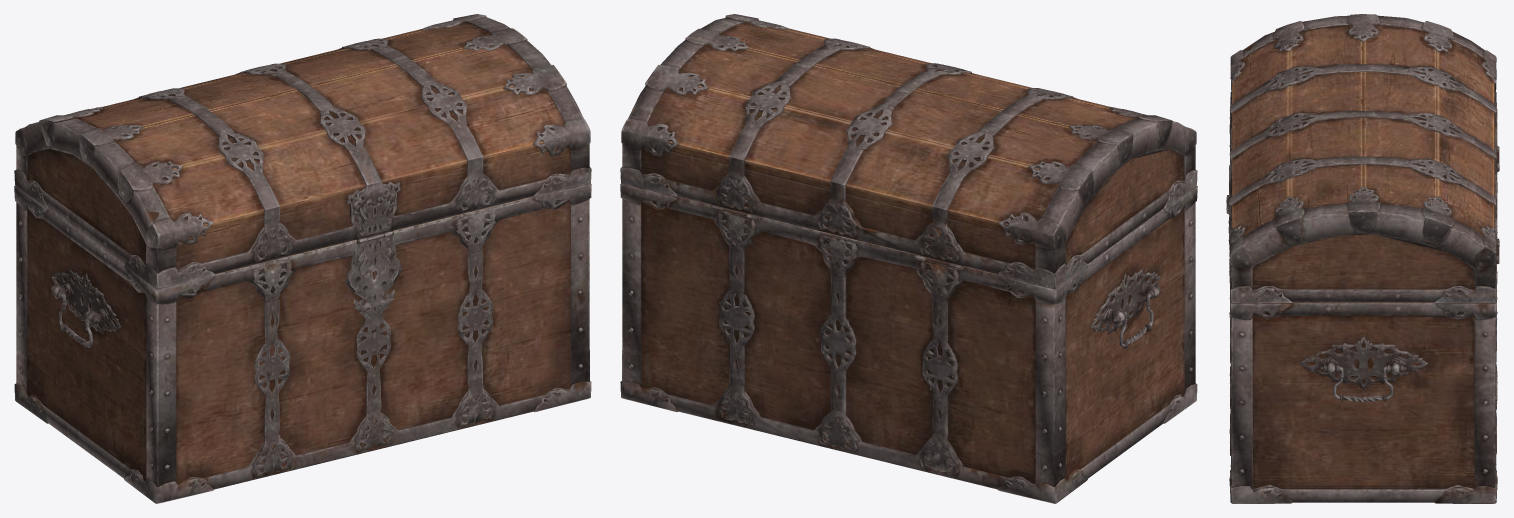
File: treasure-chest.glb
3 views of the same model, side by side, from view 1: azimuth 30°, elevation 25°; view 2: azimuth 150°, elevation 25°; view 3: azimuth 270°, elevation 25° (orthographic). The views are drawn at different scales.
Visible parts, largest first — view 1: treasure_chest_bottom, treasure_chest_lid, treasure_chest_lock, treasure_chest_handle_left; view 2: treasure_chest_bottom, treasure_chest_lid, treasure_chest_handle_left; view 3: treasure_chest_lid, treasure_chest_bottom, treasure_chest_handle_right.
Boxes of the visible parts, bbox=[...] form: treasure_chest_bottom: bbox=[14, 183, 591, 503]; treasure_chest_lid: bbox=[14, 14, 591, 288]; treasure_chest_lock: bbox=[349, 233, 399, 322]; treasure_chest_handle_left: bbox=[51, 285, 100, 348]; treasure_chest_bottom: bbox=[620, 183, 1197, 503]; treasure_chest_lid: bbox=[620, 14, 1197, 288]; treasure_chest_handle_left: bbox=[1111, 285, 1161, 348]; treasure_chest_lid: bbox=[1226, 14, 1499, 303]; treasure_chest_bottom: bbox=[1229, 162, 1497, 503]; treasure_chest_handle_right: bbox=[1320, 364, 1406, 401].
Size of the model in its own units: 0.9605 by 0.6188 by 0.5226.
1 material, 1 textured.
